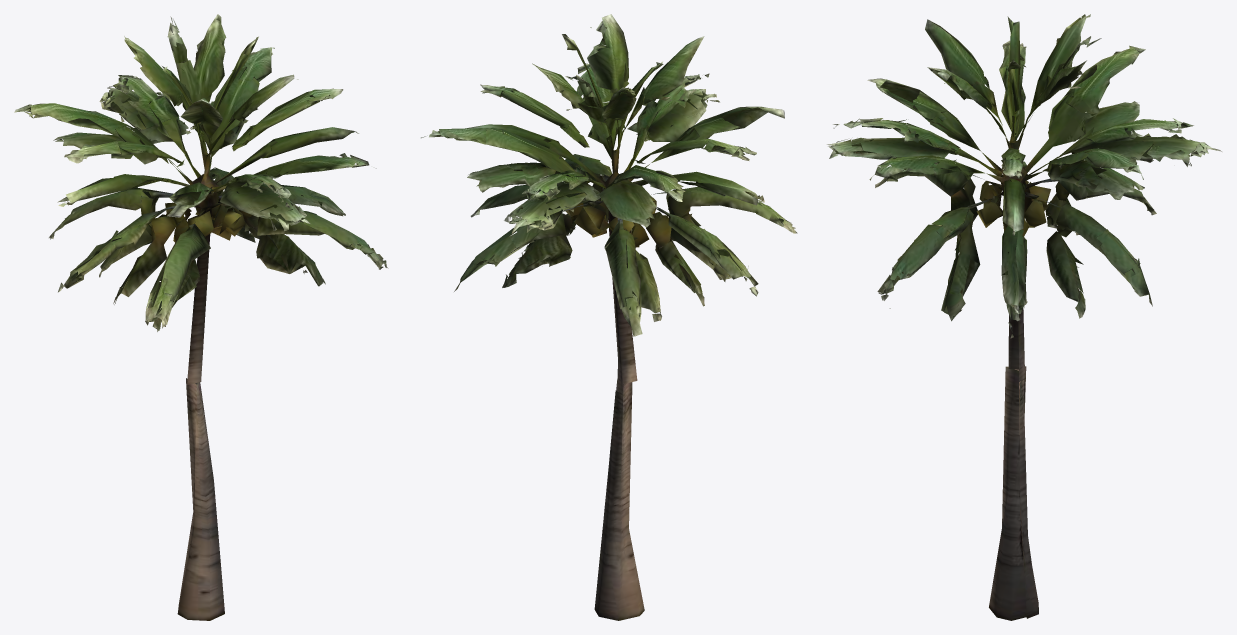
The model's file is palm.glb.
The picture shows the model from 3 angles, left to right: view 1: azimuth 30°, elevation 25°; view 2: azimuth 150°, elevation 25°; view 3: azimuth 270°, elevation 25°; orthographic projection. The views are drawn at different scales.
Visible parts, largest first — view 1: model; view 2: model; view 3: model.
Part boxes in pixels (x1=…): model: x1=14, y1=14, x2=388, y2=620; model: x1=421, y1=14, x2=797, y2=620; model: x1=827, y1=14, x2=1221, y2=620.
Bounding box in the file's own units: 0.5586 × 0.9953 × 0.6188.
Materials: 1 (1 with a texture image).
